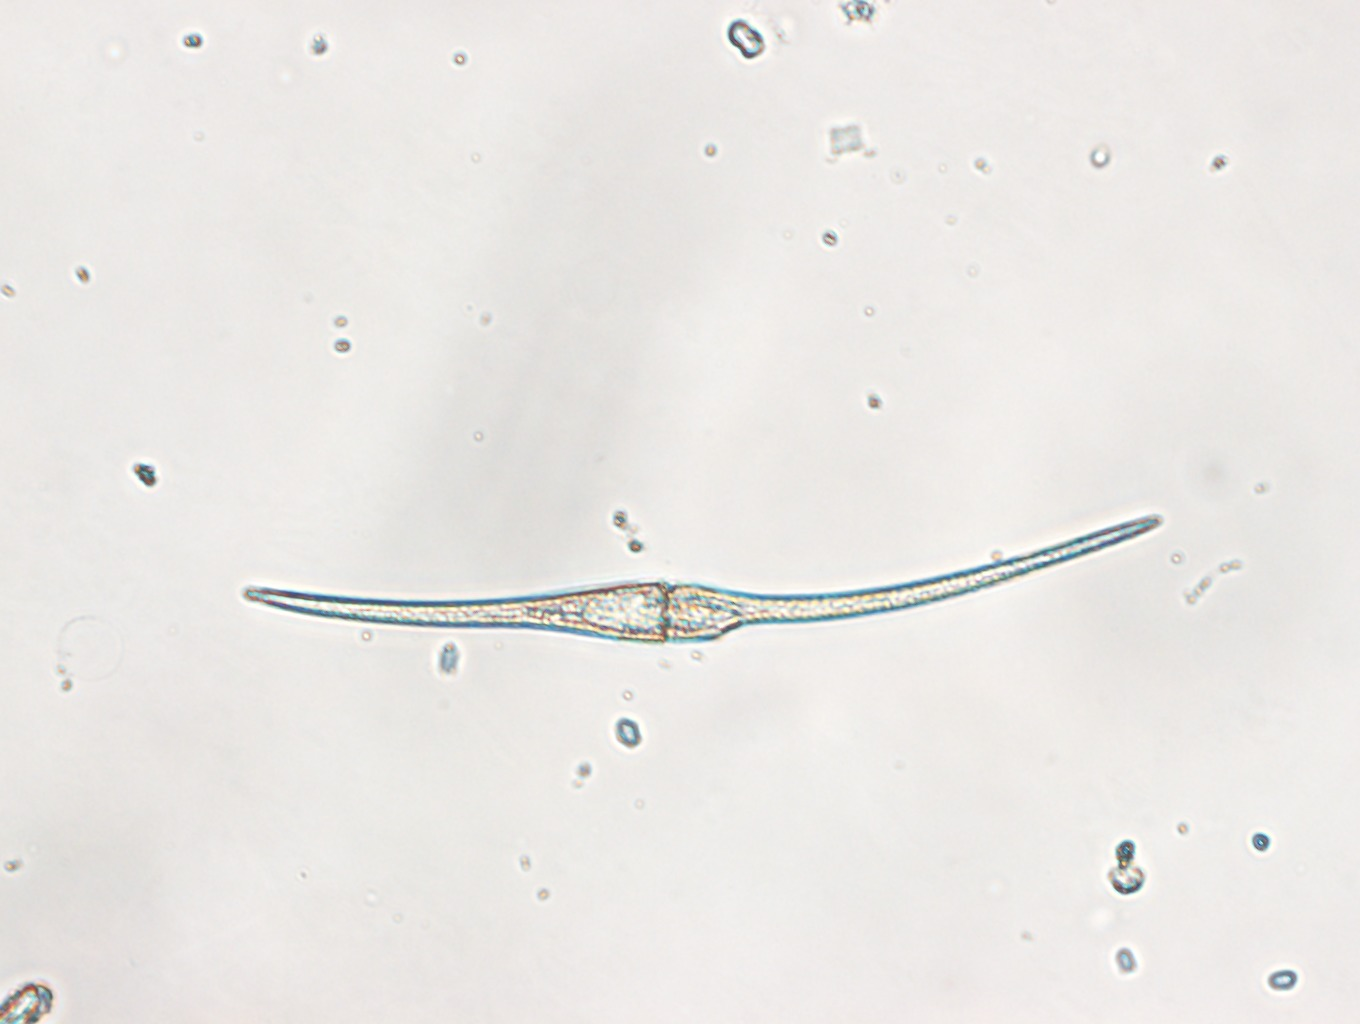ceratium fusus: (240, 509, 1162, 643)
